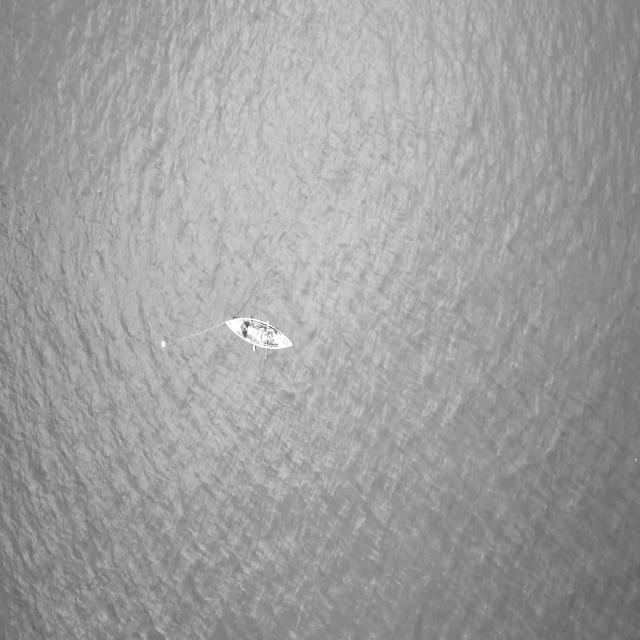ship: (216, 308, 298, 359)
